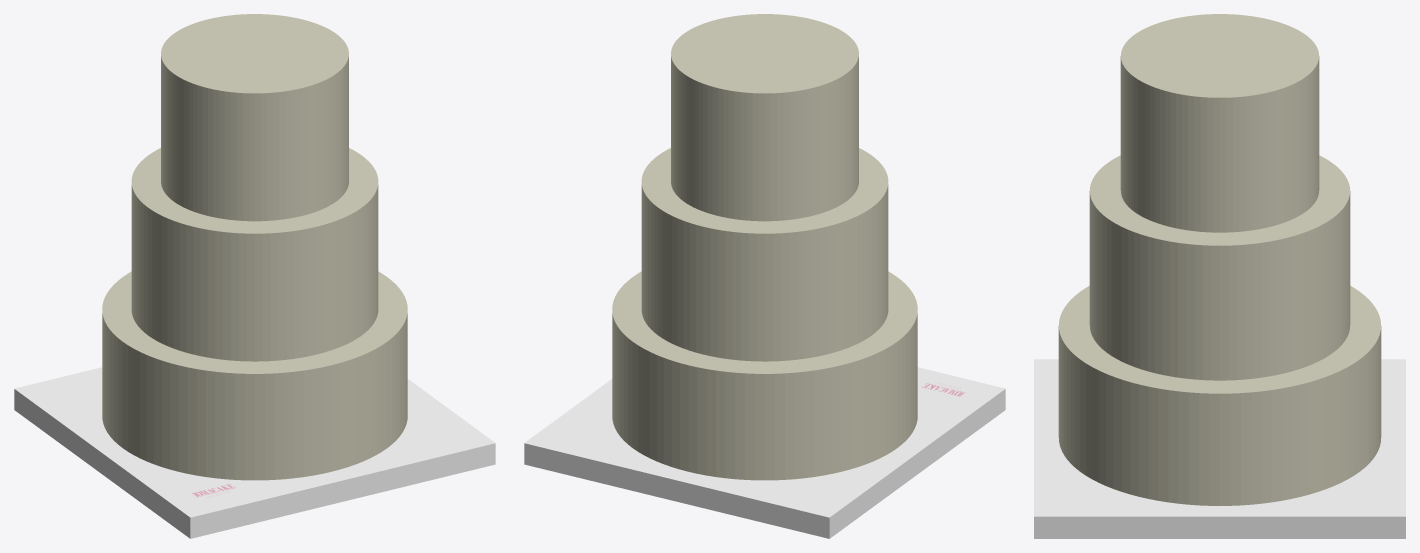
File: cake_tier3_10-8-6_layers3_v33.glb
3 views of the same model, side by side, from view 1: azimuth 30°, elevation 25°; view 2: azimuth 150°, elevation 25°; view 3: azimuth 270°, elevation 25° (orthographic). The views are drawn at different scales.
Parts seen in each view (by area): view 1: Tier0, Tier1, Tier2, Board, Logo; view 2: Tier0, Tier1, Tier2, Board, Logo; view 3: Tier0, Tier1, Tier2, Board.
Boxes of the visible parts, <box> form: Tier0: <box>102,271,407,480</box>; Tier1: <box>131,148,378,361</box>; Tier2: <box>161,14,348,221</box>; Board: <box>14,367,495,538</box>; Logo: <box>184,480,246,502</box>; Tier0: <box>612,271,917,480</box>; Tier1: <box>641,148,888,361</box>; Tier2: <box>671,14,858,221</box>; Board: <box>524,367,1005,538</box>; Logo: <box>917,377,976,399</box>; Tier0: <box>1058,286,1381,505</box>; Tier1: <box>1089,155,1350,380</box>; Tier2: <box>1120,14,1319,232</box>; Board: <box>1034,359,1405,538</box>.
Bounding box in the file's own units: 0.3 × 0.36 × 0.3.
